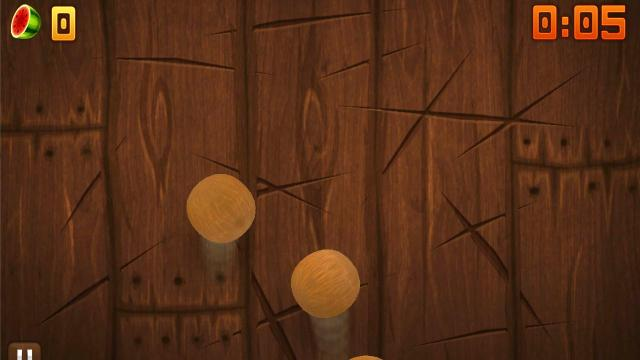fruit: (186, 173, 256, 243), (290, 250, 362, 318), (348, 354, 382, 360)
ignore: (10, 4, 42, 40)
